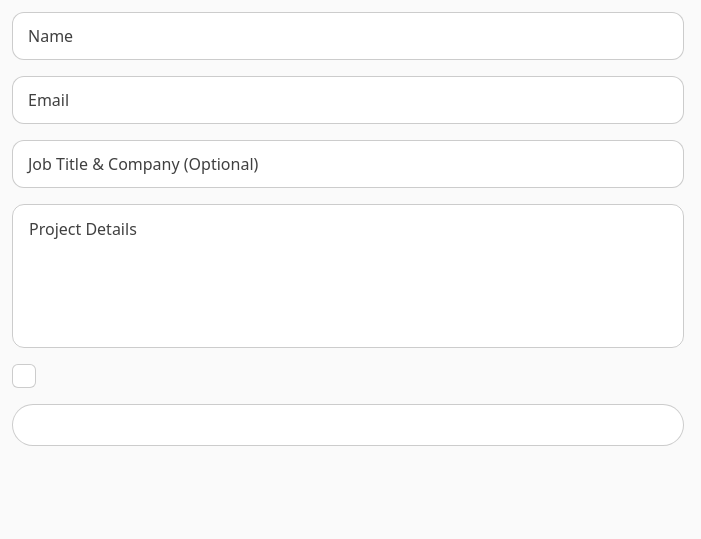
ContactForm › shows server validation errors on empty submit
Click the button at point(348, 425), box [12,404,684,446]
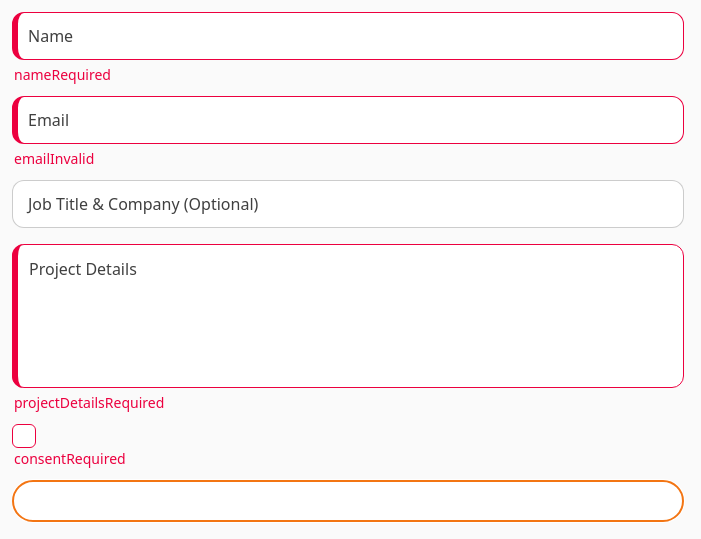
Now the text "nameRequired" is shown, box [14,65,111,84]
Now the text "emailInvalid" is shown, box [14,149,94,168]
Now the text "projectDetailsRequired" is shown, box [14,393,164,412]
